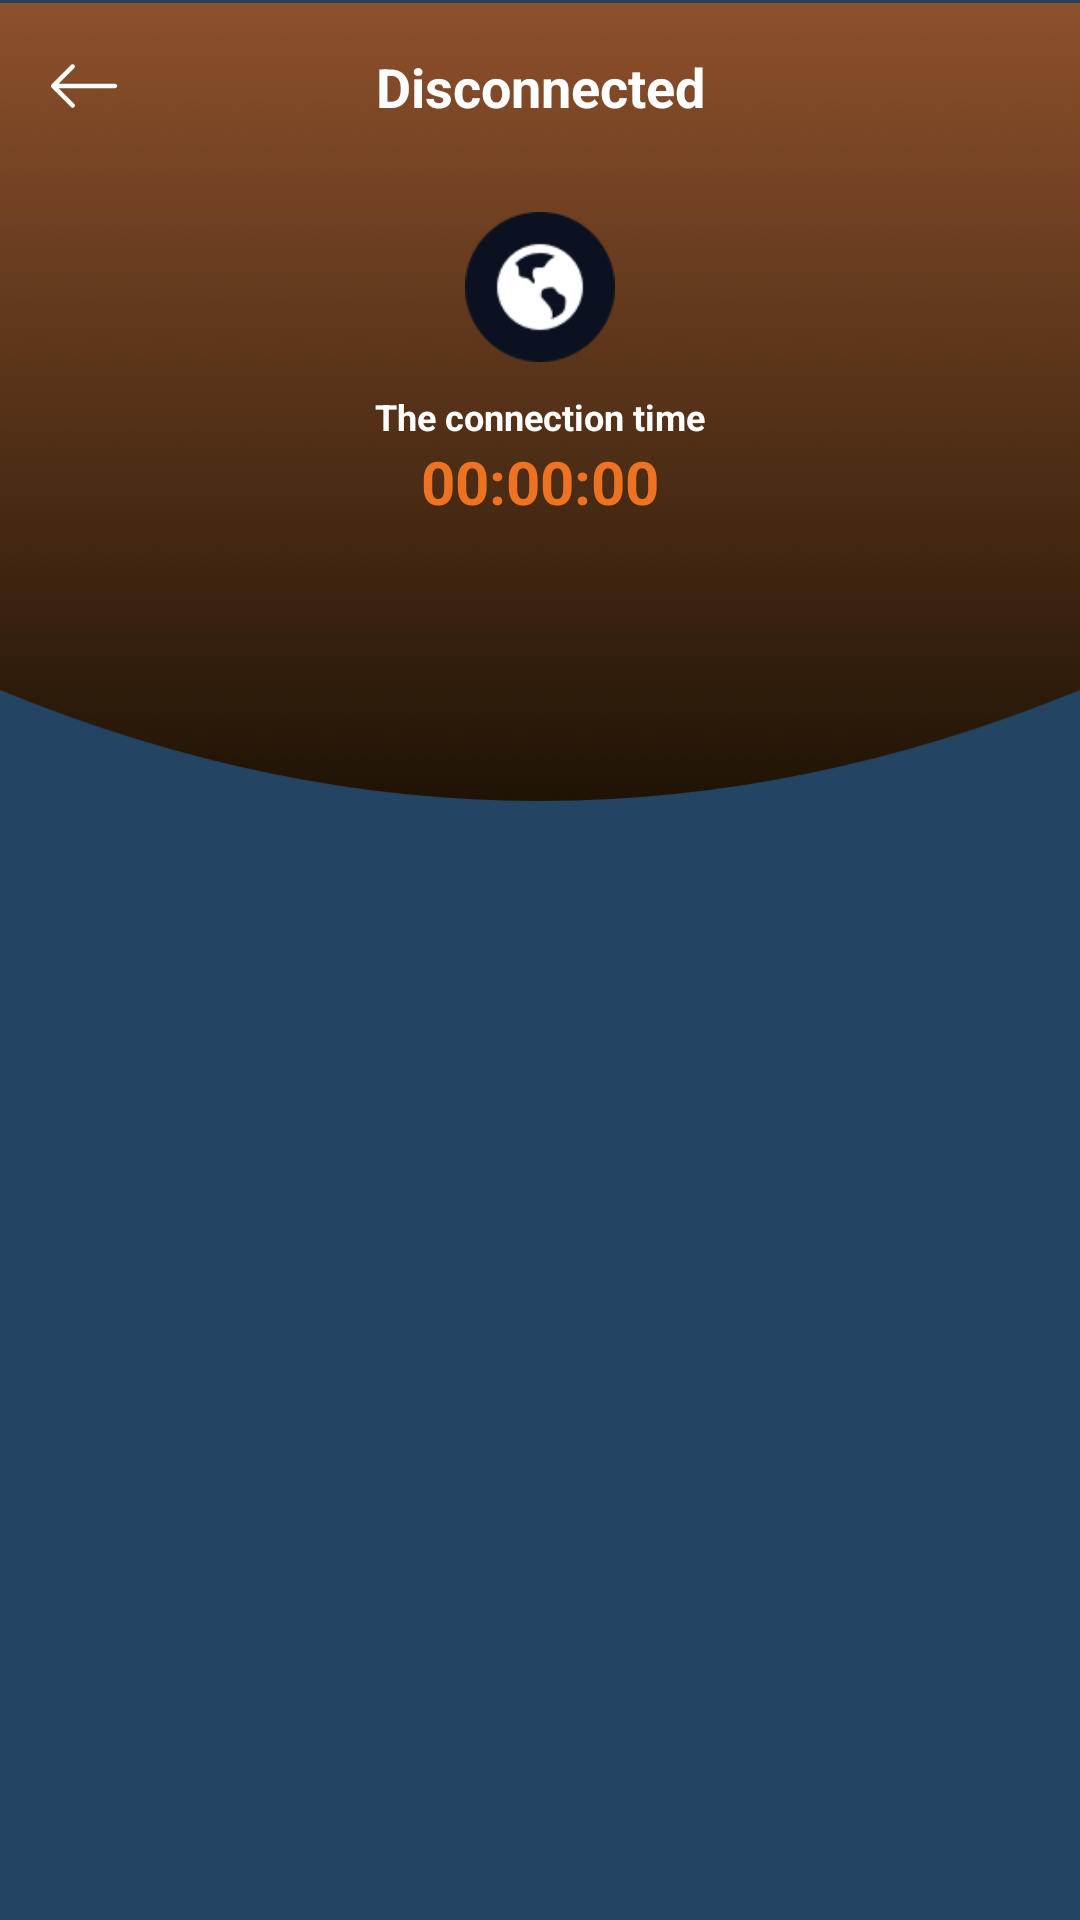

Icons on this 1080×1920 Android screen, each with the point to tap as (x=x, y=y):
back: (x=84, y=86)
